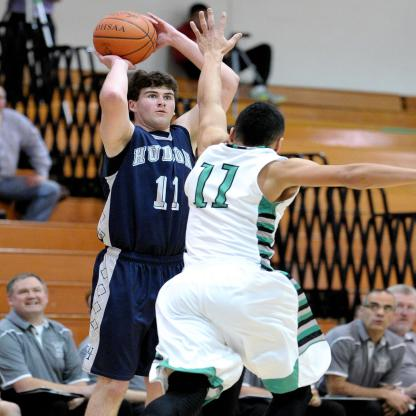Ball: (92, 9, 158, 65)
